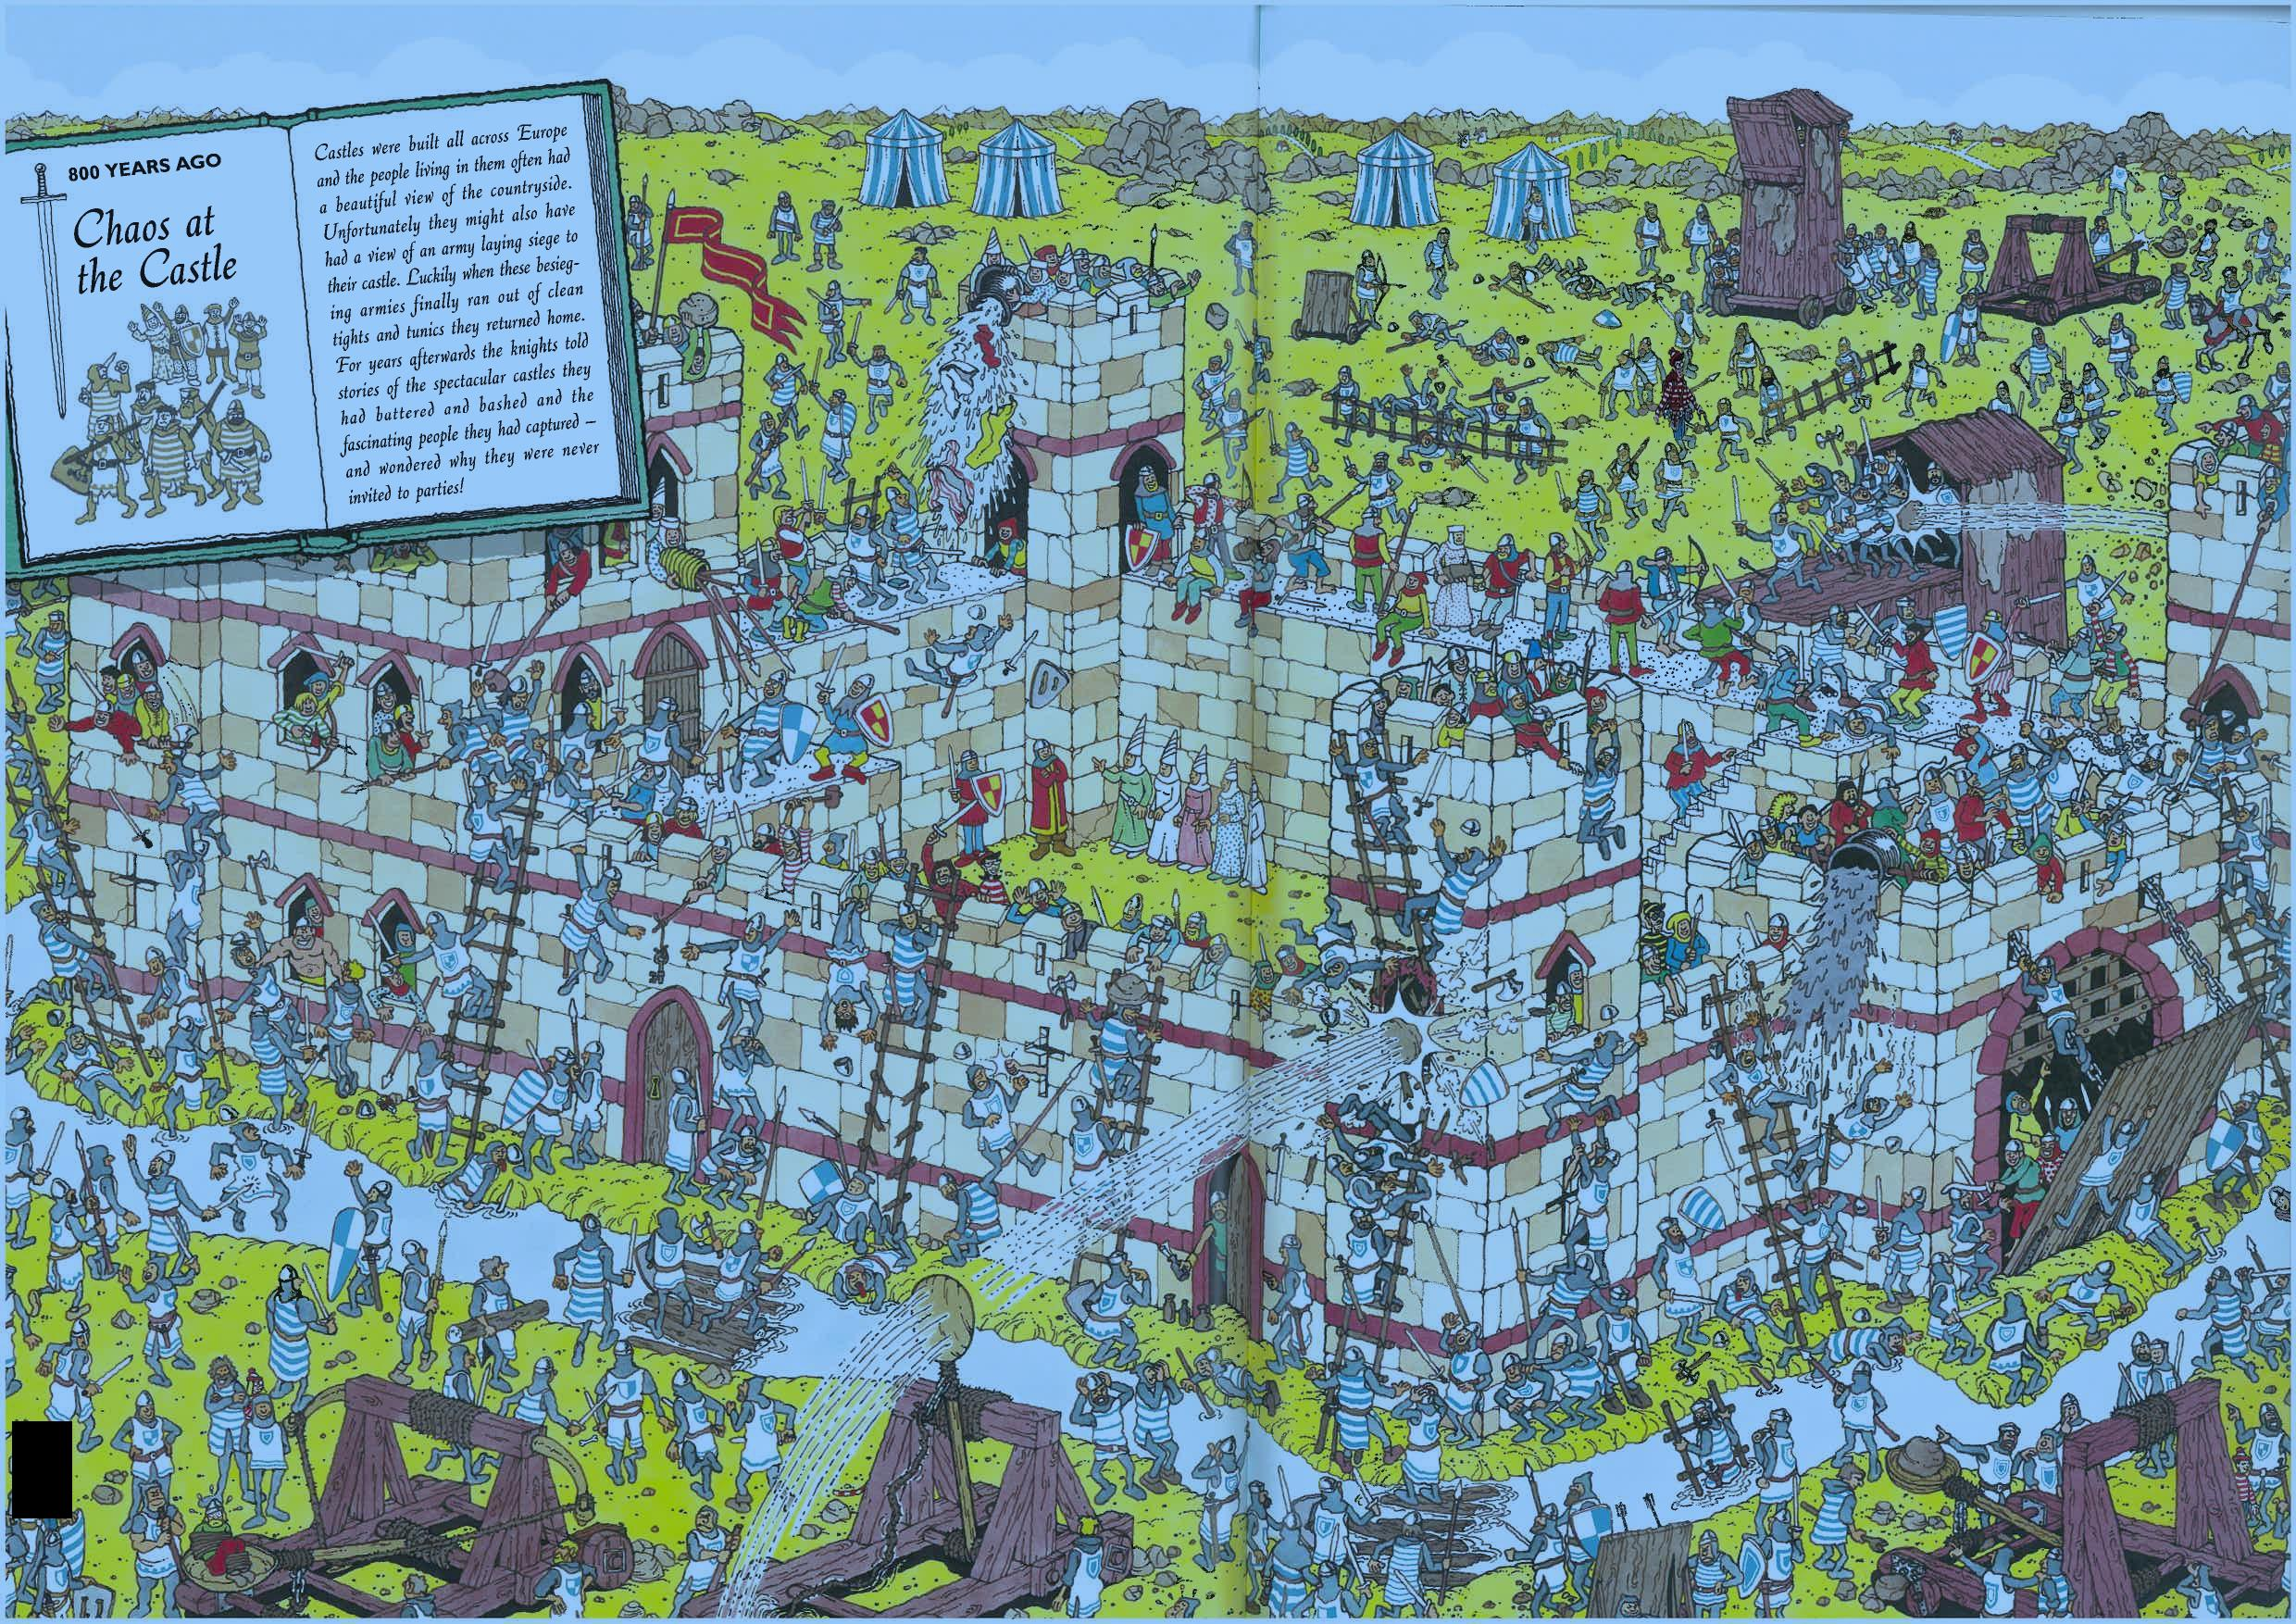waldos: (1653, 344, 1715, 441)
